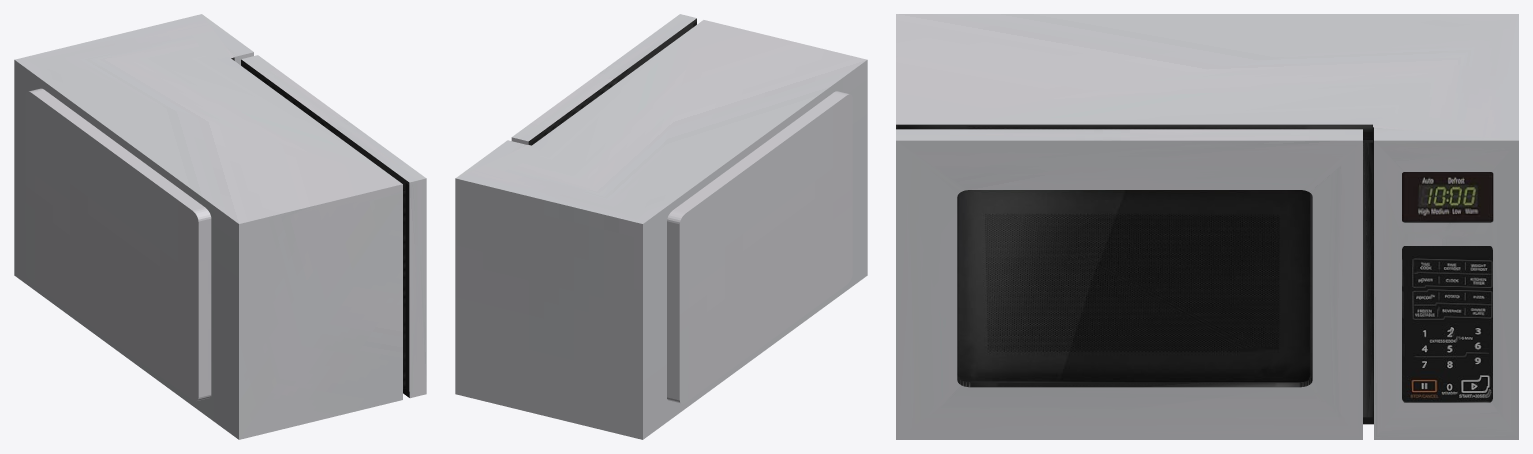
Rendered from psx microwave.fbx.
3 renders of one model, left to right at view 1: azimuth 30°, elevation 25°; view 2: azimuth 150°, elevation 25°; view 3: azimuth 270°, elevation 25°, orthographic. The views are drawn at different scales.
Parts seen in each view (by area): view 1: Cube; view 2: Cube; view 3: Cube.
Boxes of the visible parts, x1=… form: Cube: x1=14, y1=14, x2=426, y2=439; Cube: x1=455, y1=14, x2=867, y2=439; Cube: x1=896, y1=14, x2=1518, y2=439.
Size of the model in its own units: 194 by 200 by 377.
4 materials, 4 textured.
